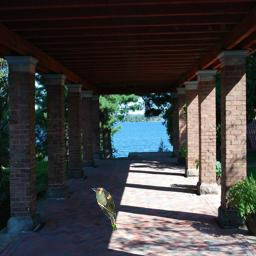Cuckoo: (90, 187, 118, 233)
